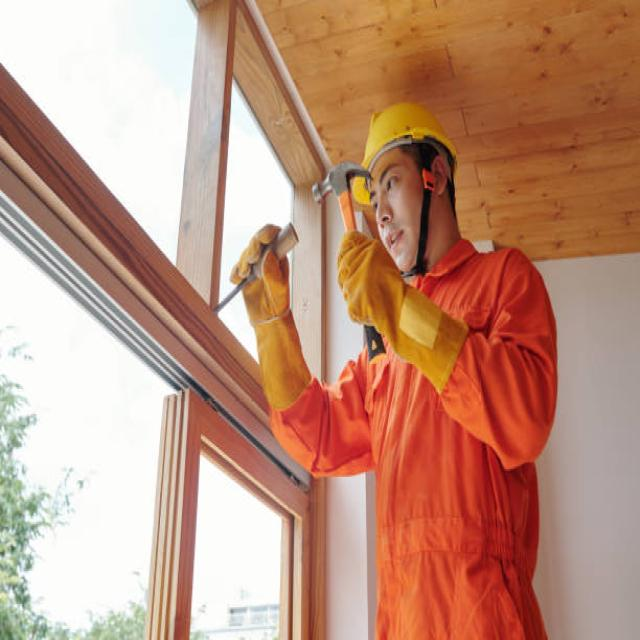Gloves: (335, 225, 475, 400), (224, 217, 315, 419)
helmet: (350, 101, 460, 205)
person: (227, 100, 559, 640)
